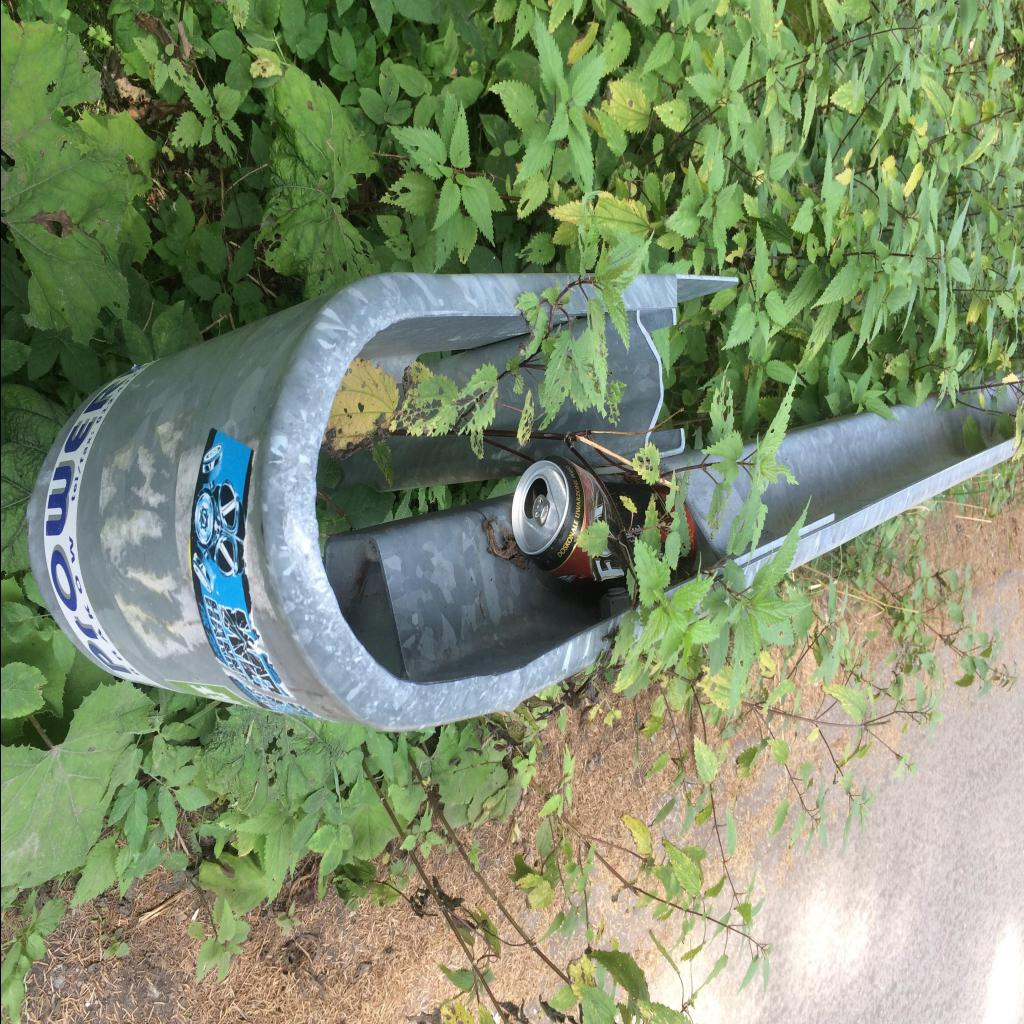Drink can: (510, 455, 696, 589)
Pop tab: (532, 494, 550, 528)
